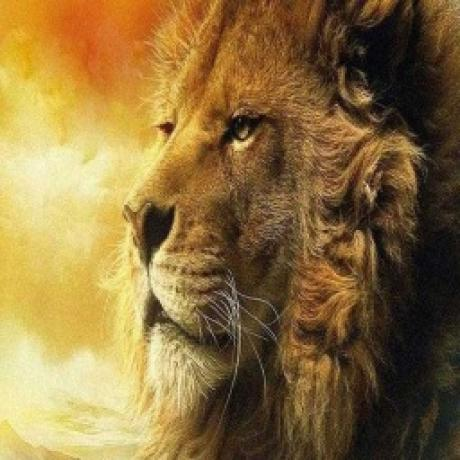Lion: (120, 0, 460, 460)
